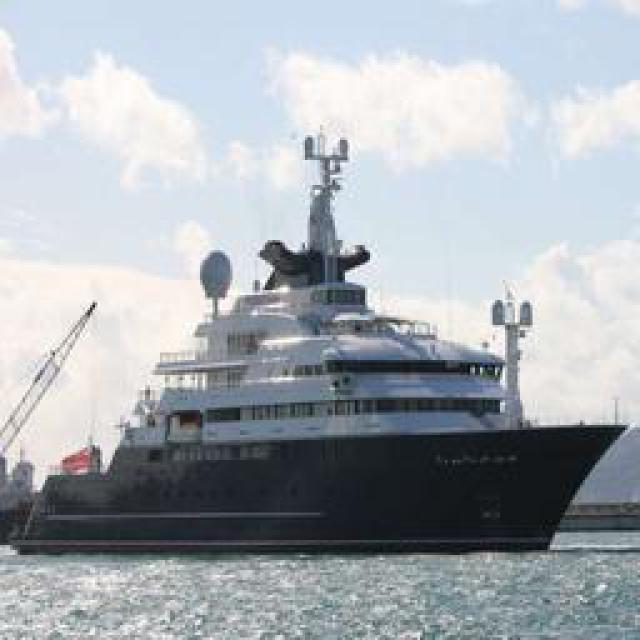Ship: (29, 113, 609, 551)
